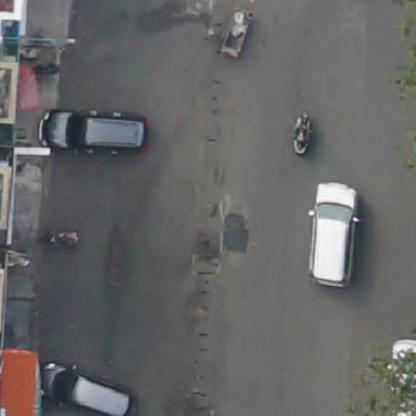car: (39, 111, 150, 160), (38, 361, 138, 415), (311, 184, 360, 289)
motorcycle: (35, 226, 81, 251), (291, 112, 314, 155)
